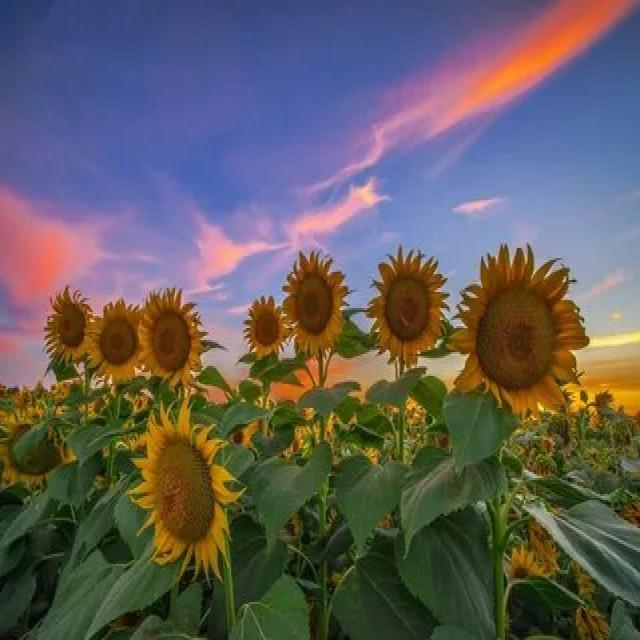sunflower: (457, 236, 593, 426), (131, 396, 243, 586), (368, 242, 450, 368), (274, 244, 351, 362), (135, 284, 207, 392), (82, 294, 146, 392), (40, 280, 94, 364), (239, 290, 286, 374)
